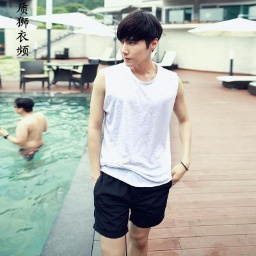face: (113, 11, 163, 67)
